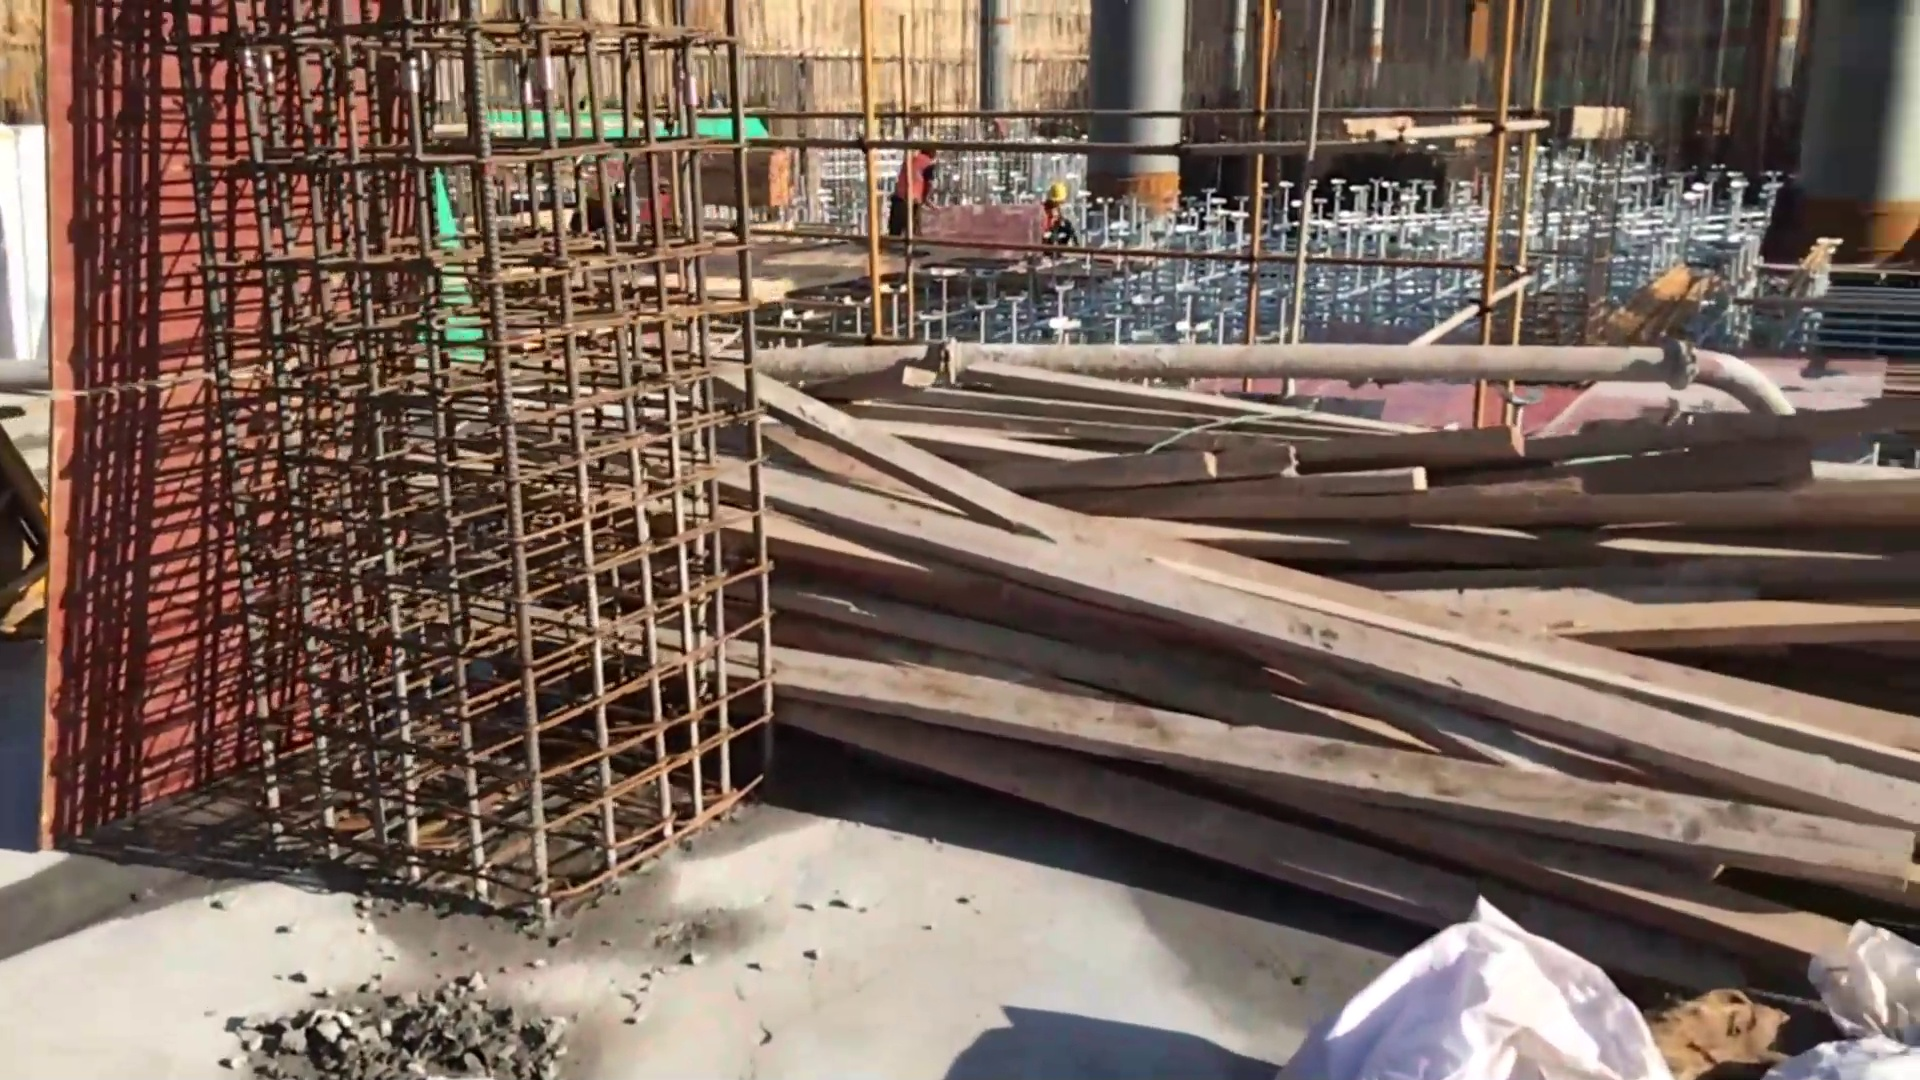person: (890, 135, 939, 234), (1035, 174, 1073, 247)
